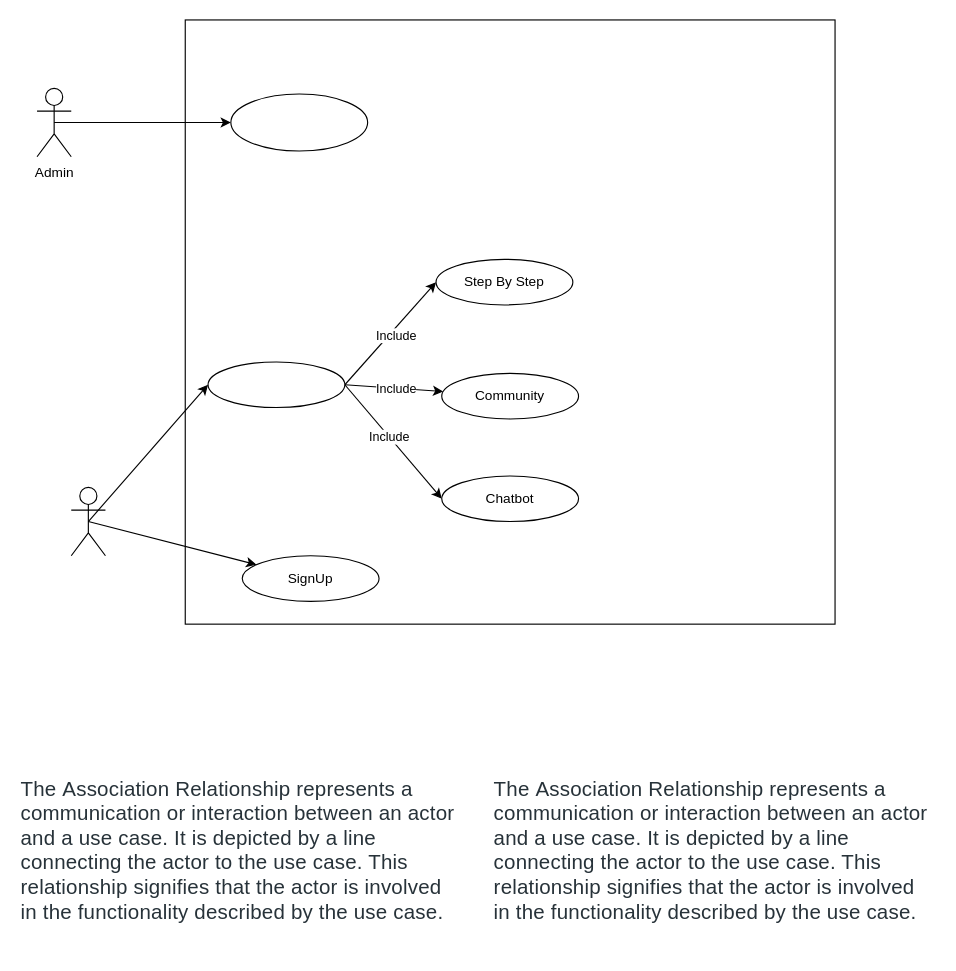
This 956x971 diagram has some shape labels left out. The centre of each missing label's shape, as x and y in pixels:
Admin Login: (299,122)
User: (87,521)
User Login: (276,384)
